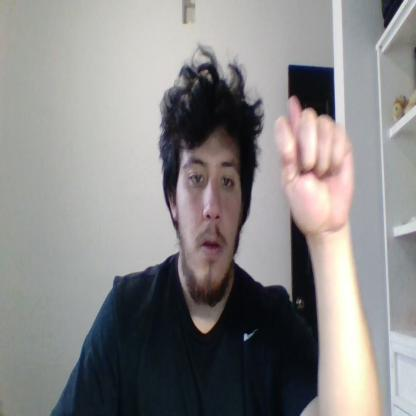T: (274, 95, 354, 233)
